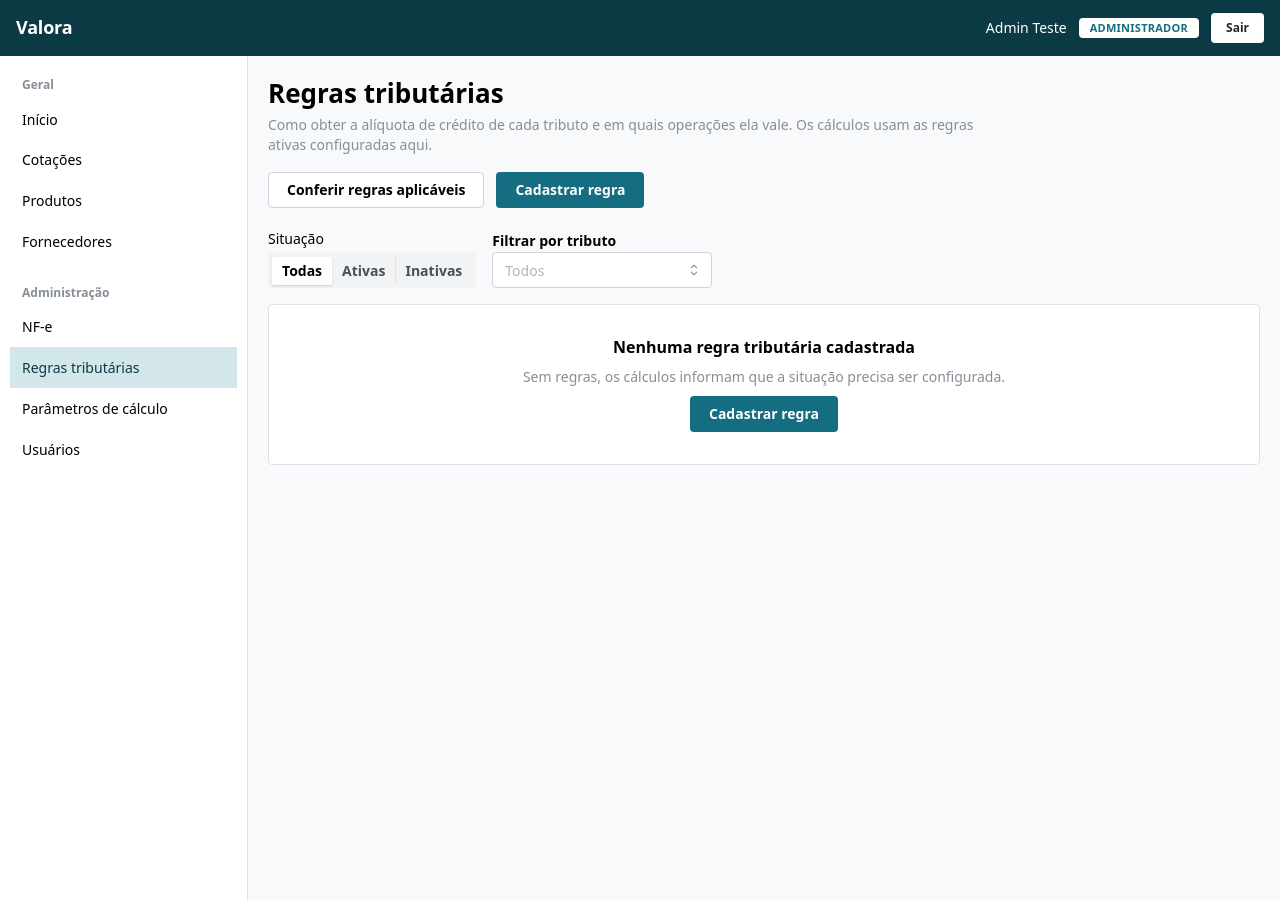
RegrasAplicaveisPage › é acessível pela página de regras
Click the link "Conferir regras aplicáveis" at (376, 190), box top-left (268, 172), bottom-right (484, 208)
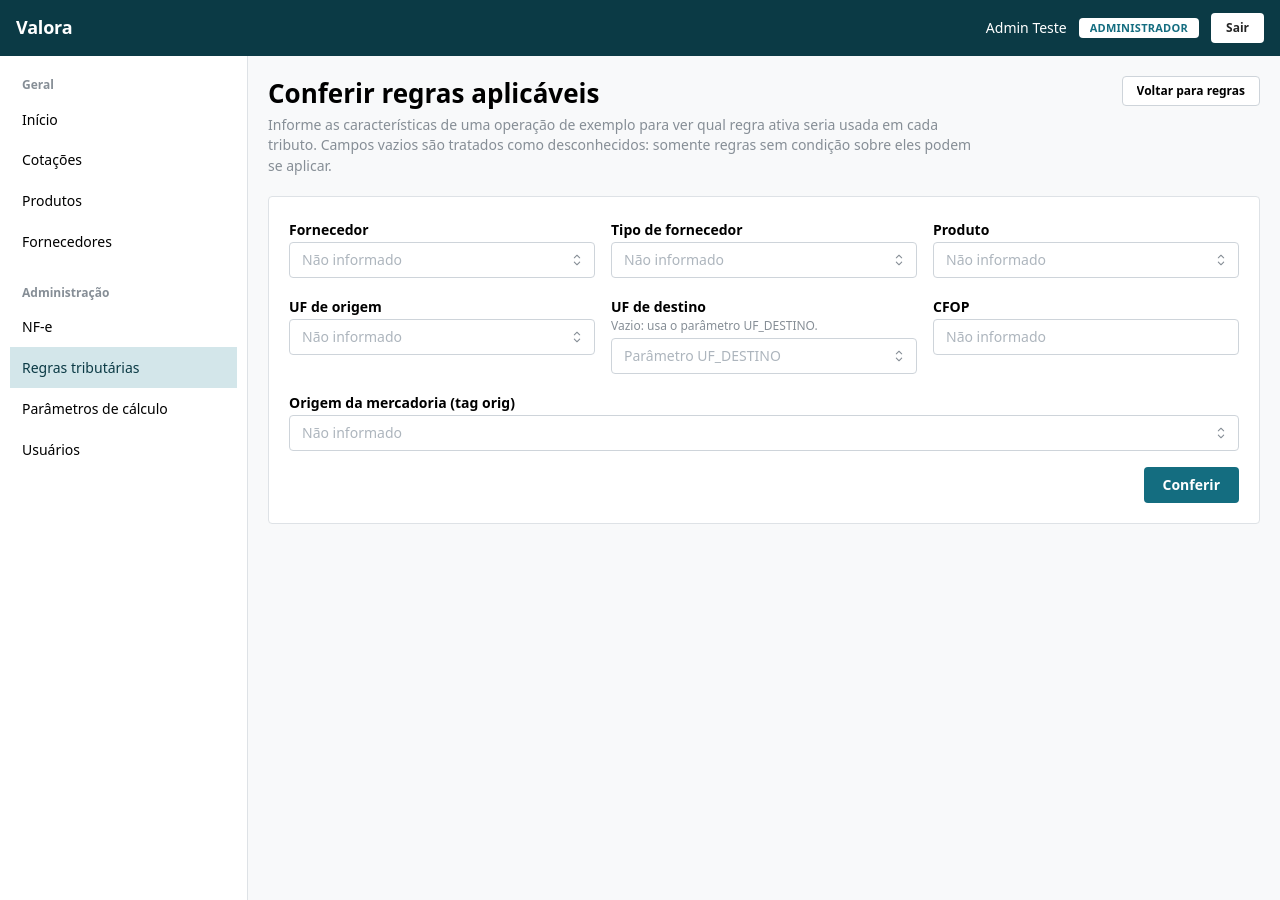
Expected: the heading "Conferir regras aplicáveis" is shown, top-left (268, 75), bottom-right (599, 111)
